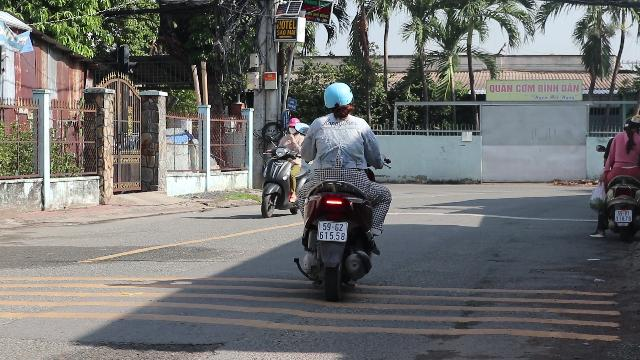helmet: (321, 81, 355, 117), (623, 113, 639, 133)
licenseplate: (318, 222, 347, 242), (615, 210, 631, 222)
motorcyclist: (289, 80, 393, 296), (587, 110, 639, 240), (258, 118, 304, 217)
